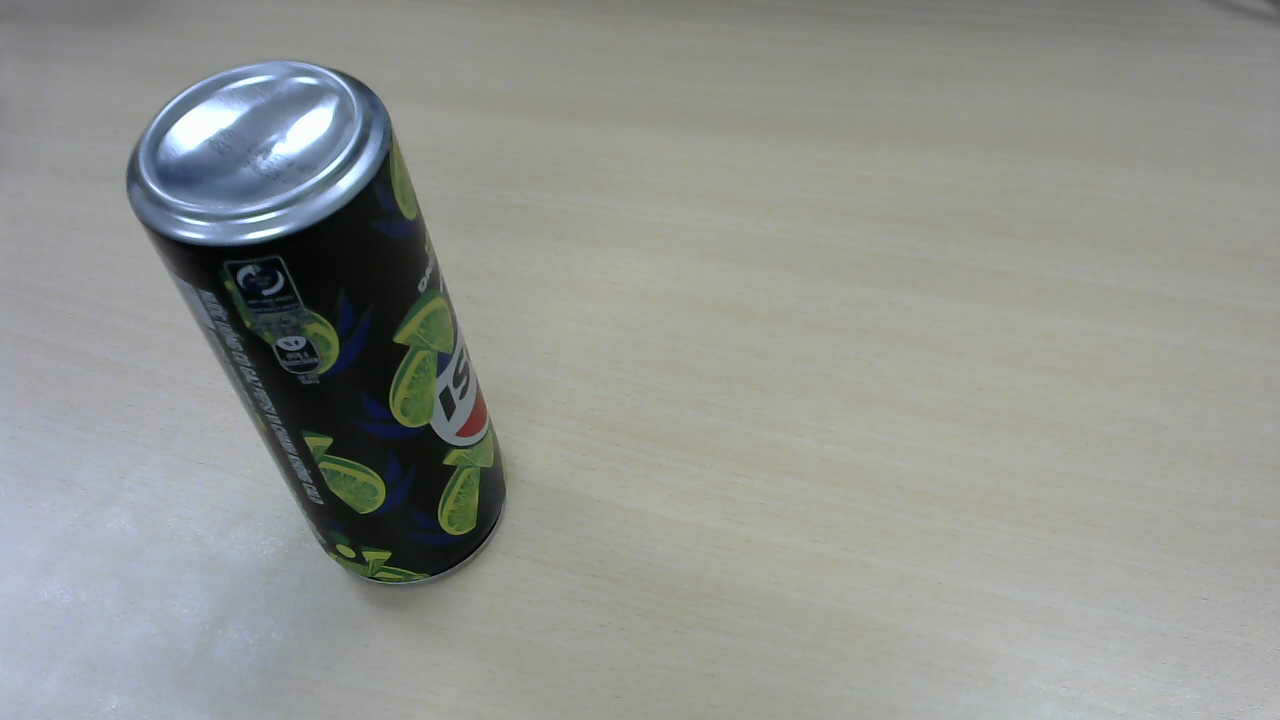Pepsi: (130, 65, 514, 590)
